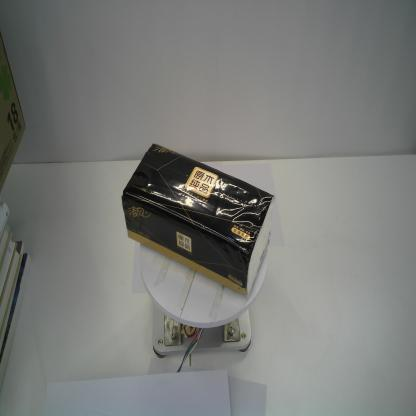Tissue: (120, 140, 276, 300)
